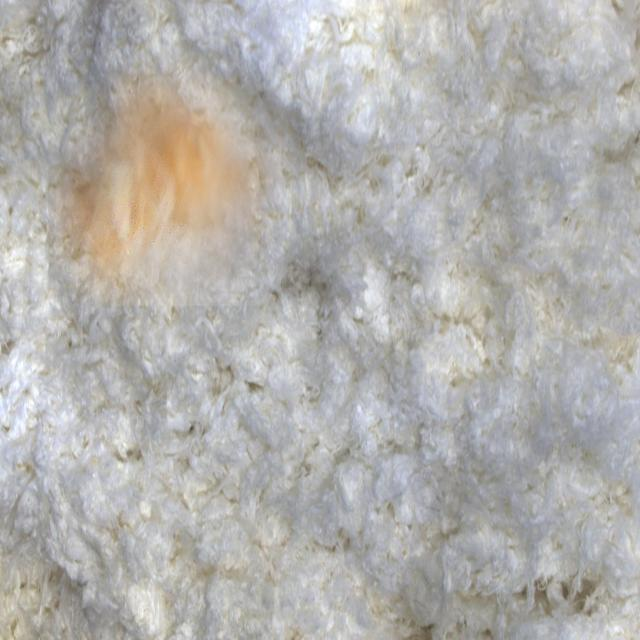dust: (48, 38, 290, 306)
